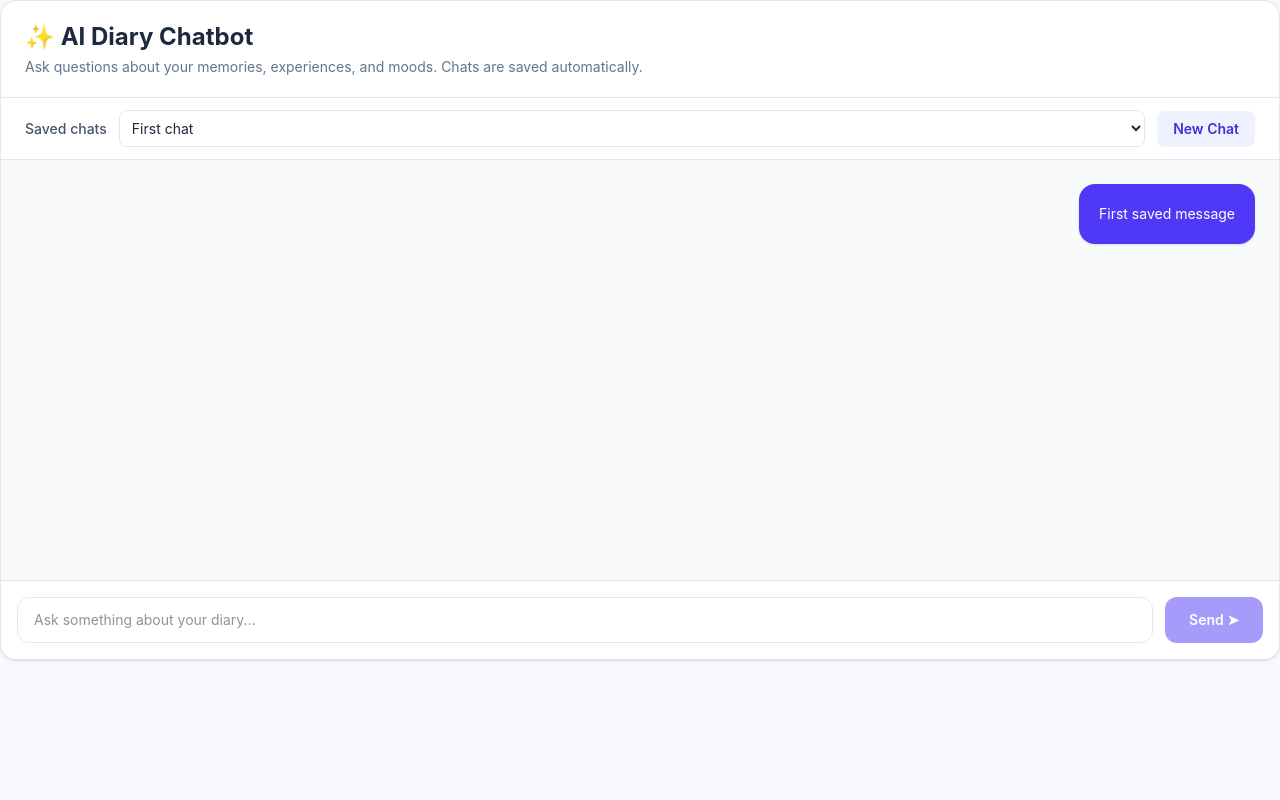
Scenario: Saved conversations › starts a new conversation and renders saved answer citations
expect the text "First saved message" is shown: met, box [1099,200,1235,228]
Click the button "New Chat" at [1206, 128], box [1157,110,1255,146]
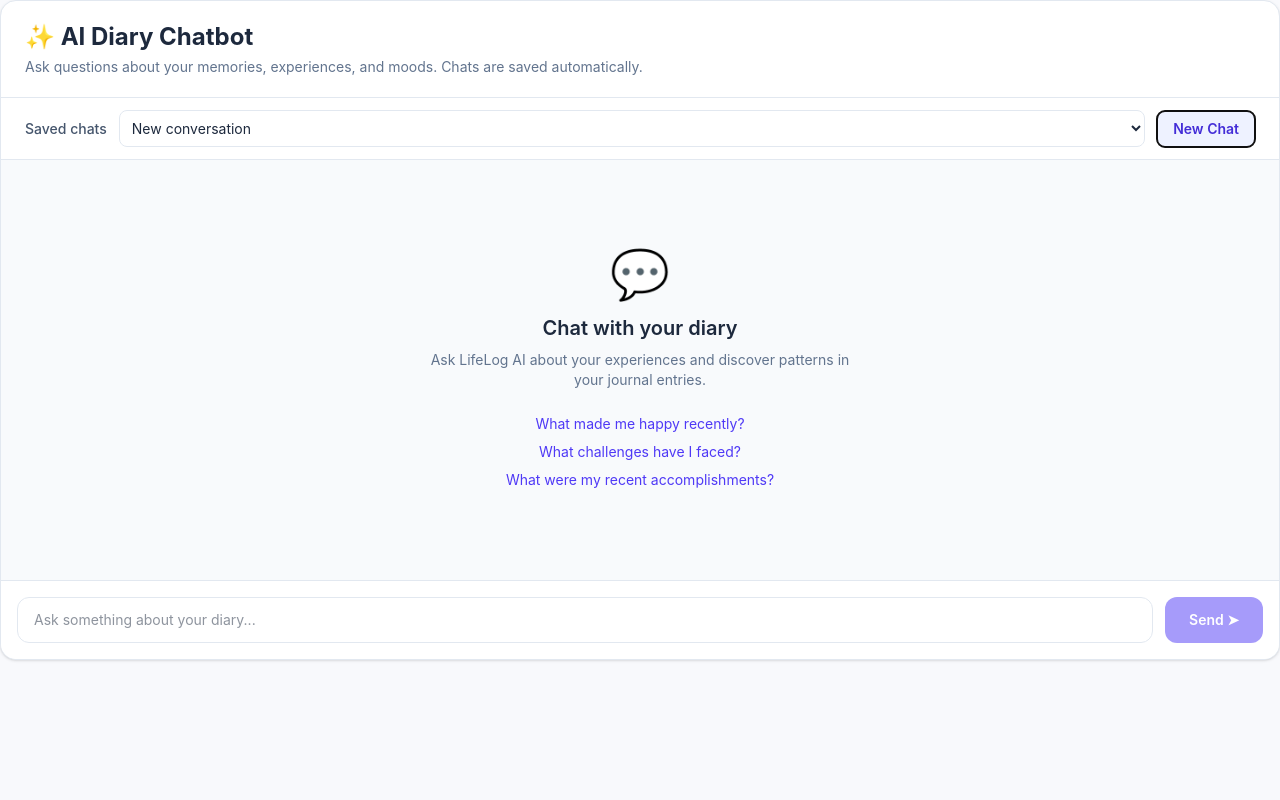
expect the text "First saved message" is gone: met
Type "A new question" into the field named "Your diary question" at [585, 620], box [17,597,1153,643]
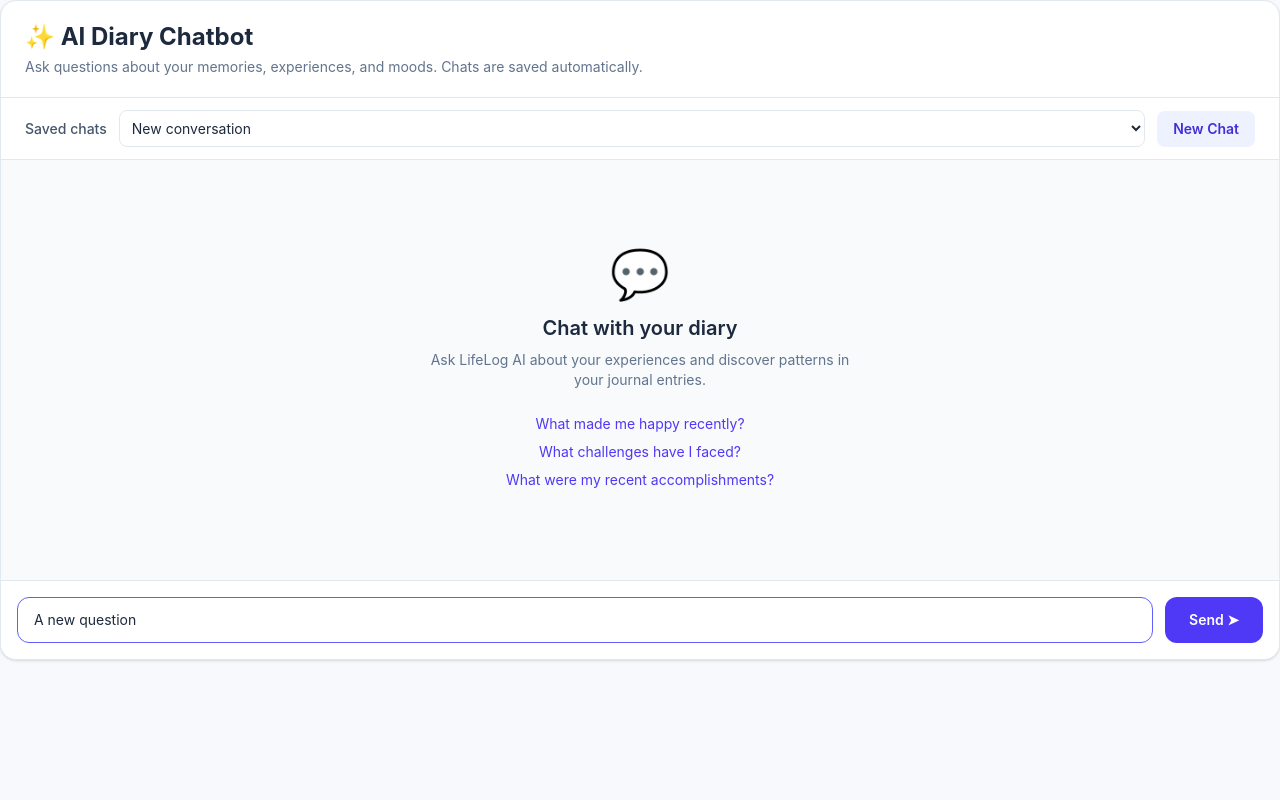
Click the button "Send ➤" at [1214, 620], box [1165,597,1263,643]
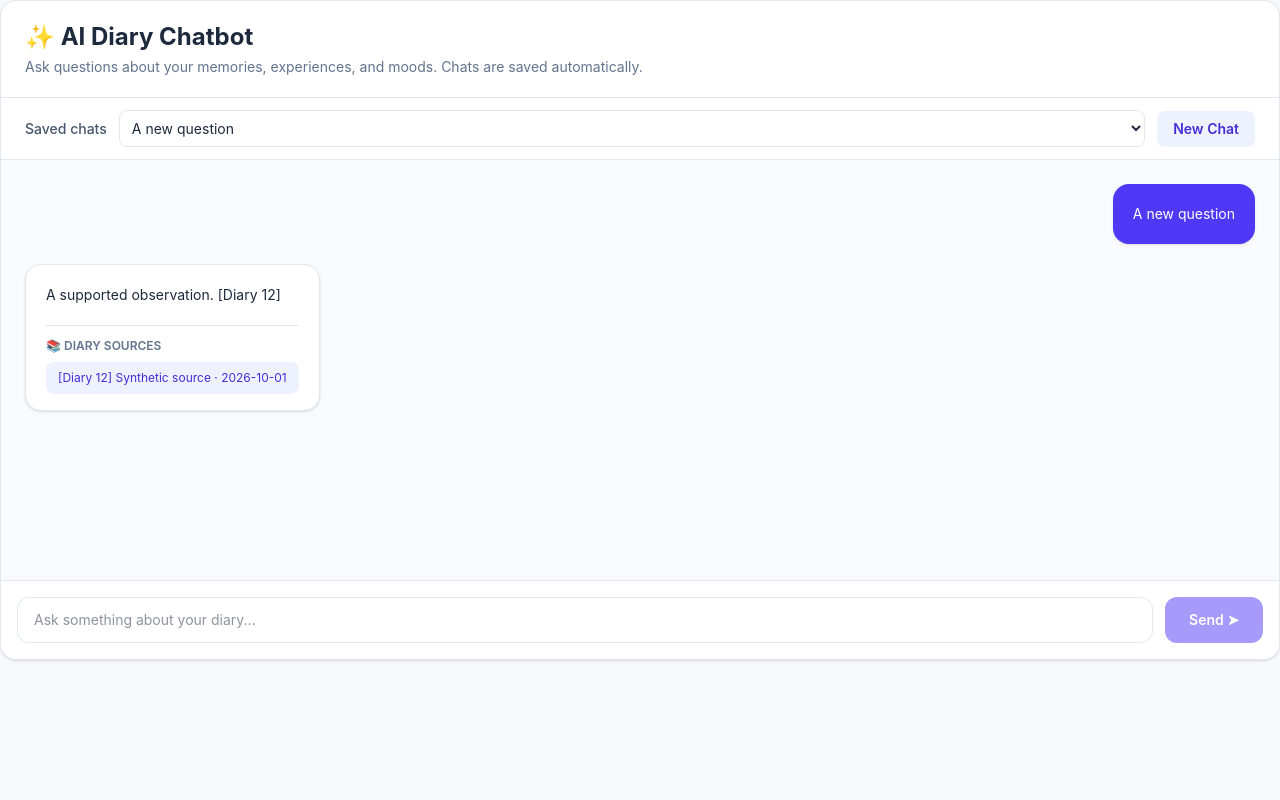
expect the text "A supported observation. [Diary 12]" is shown: met, box [46,281,299,309]
expect the text titled "Supporting synthetic passage" shows "Synthetic source": met, box [116,370,211,385]
